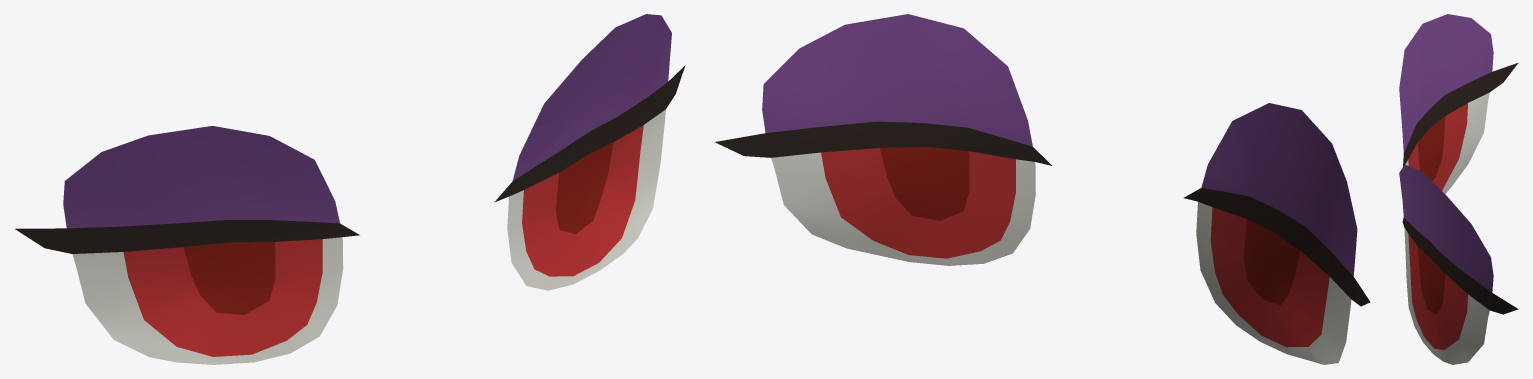
The model's file is Eye_Red_7.fbx.
3 views of the same model, side by side, from view 1: azimuth 30°, elevation 25°; view 2: azimuth 150°, elevation 25°; view 3: azimuth 270°, elevation 25° (orthographic). The views are drawn at different scales.
Parts seen in each view (by area): view 1: Eye_Red_7; view 2: Eye_Red_7; view 3: Eye_Red_7.
Part boxes in pixels (left/top/right/bottom): Eye_Red_7: left=15, top=14, right=685, bottom=364; Eye_Red_7: left=714, top=14, right=1370, bottom=364; Eye_Red_7: left=1399, top=14, right=1518, bottom=364.
Bounding box in the file's own units: 41.23 × 14.51 × 8.45.
